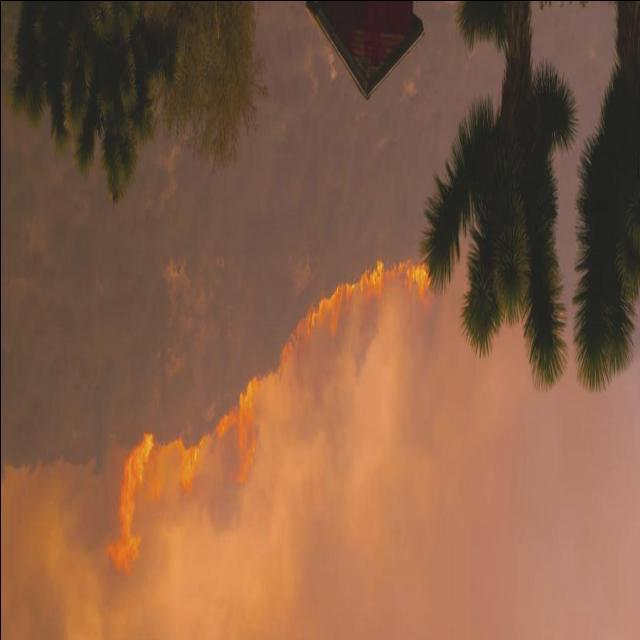Fire: (280, 252, 448, 362), (161, 372, 263, 492), (104, 424, 158, 582)
